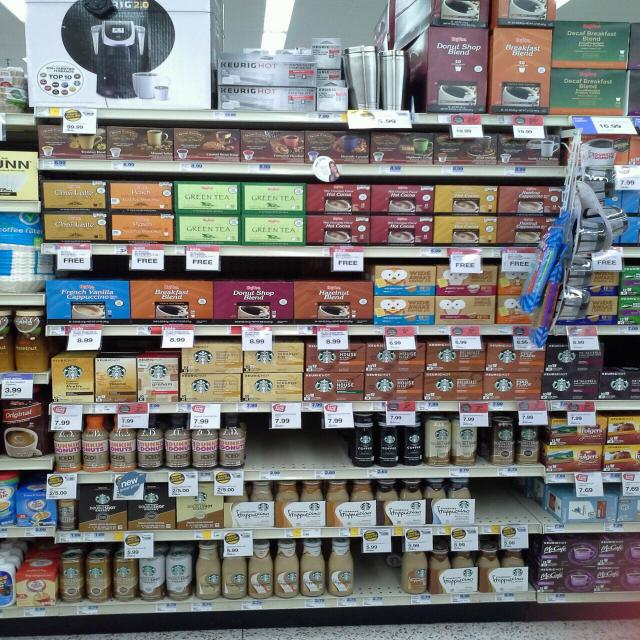empty: (249, 408, 356, 471), (473, 477, 547, 527), (349, 547, 401, 597)
